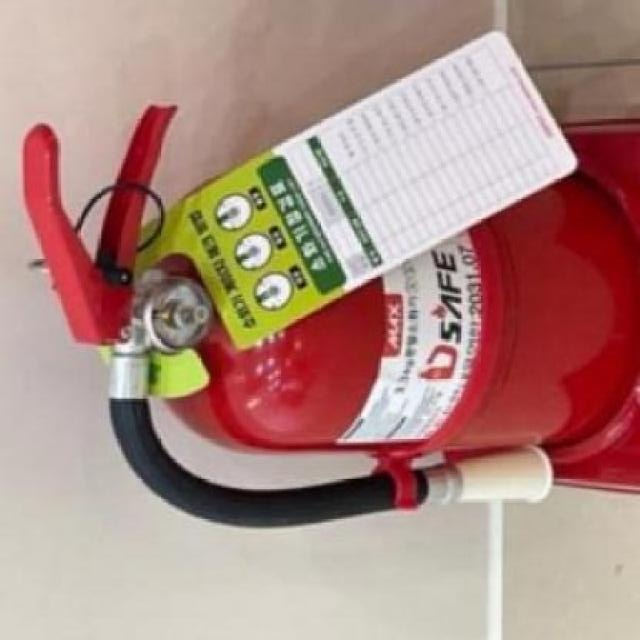fire extinguisher: (21, 105, 640, 530)
